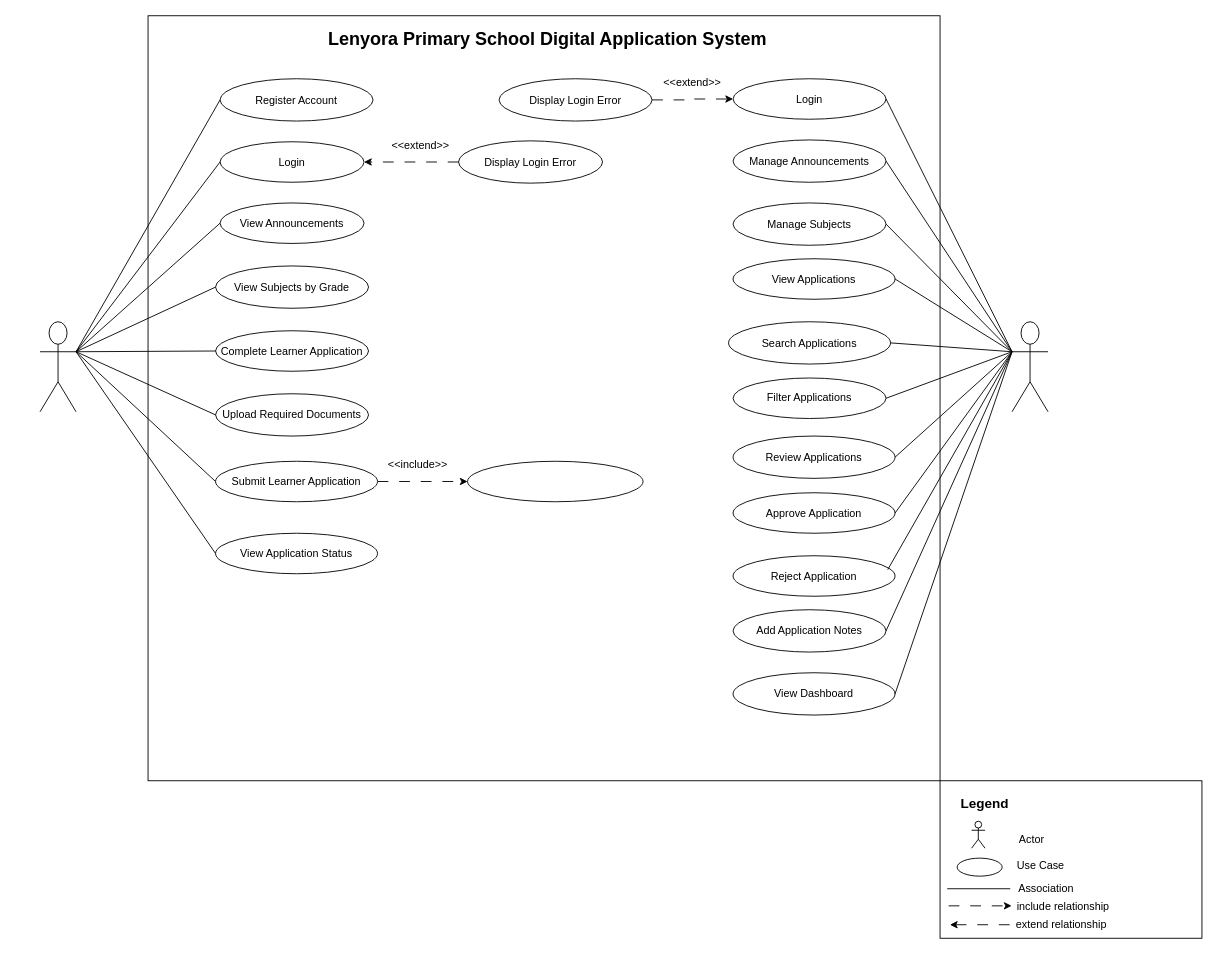
Some shapes in this 1218 by 954 pixel diagram are drawn without their labels. Here are the shapes that lost their labels. From the top down, the centre of each, then its label:
At point (57, 366): "Parent / Guardian".
At point (1029, 366): "School Administrator".
At point (555, 481): "Validate Application Details".
